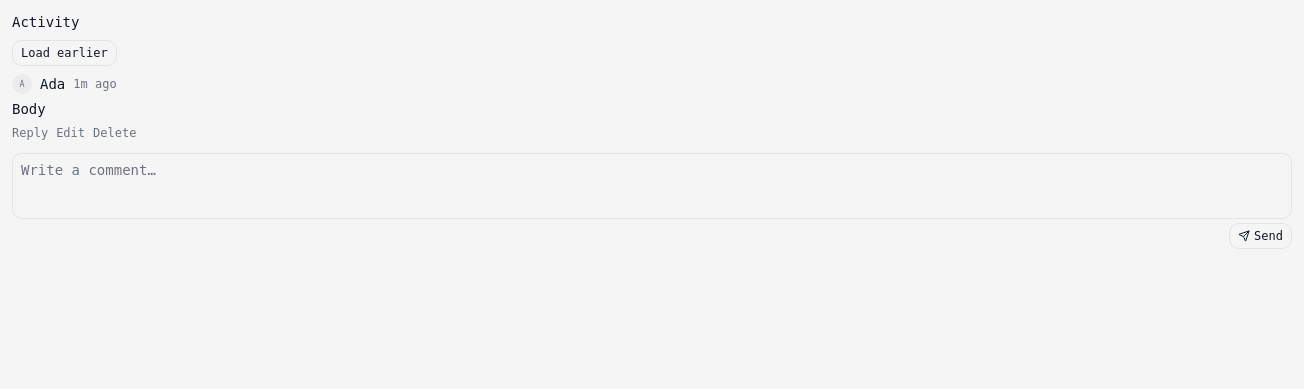
Test case: issue activity feed › Load earlier queries before the cursor and prepends without duplicates
This screenshot has width=1304, height=389.
expect the element with test id "comment-c-3" is shown: met, box [12, 74, 136, 141]
Step 1. Click the button "Load earlier" → (64, 53), box [12, 40, 117, 66]
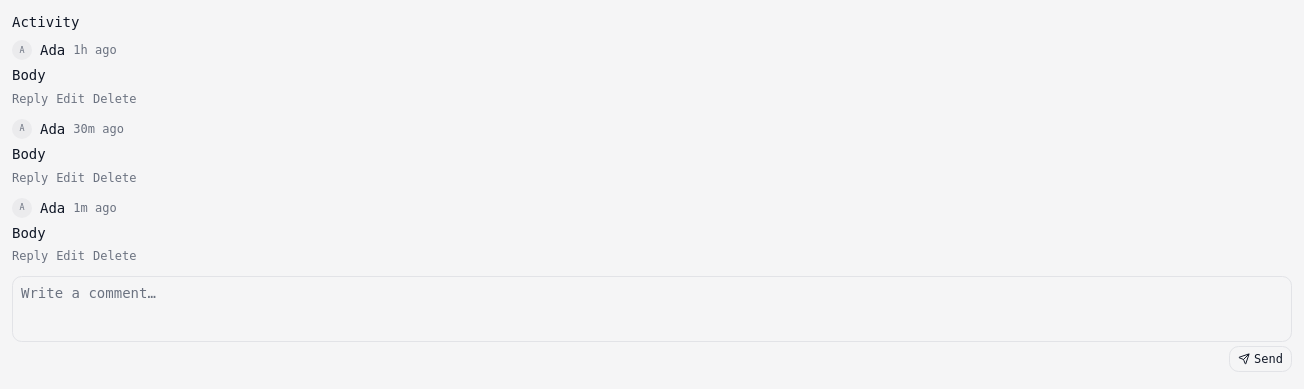
expect the element with test id "comment-c-1" is shown: met, box [12, 40, 136, 107]
expect the number of elements with test id "comment-c-3" is 1: met, box [12, 198, 136, 264]
expect the button "Load earlier" is gone: met
